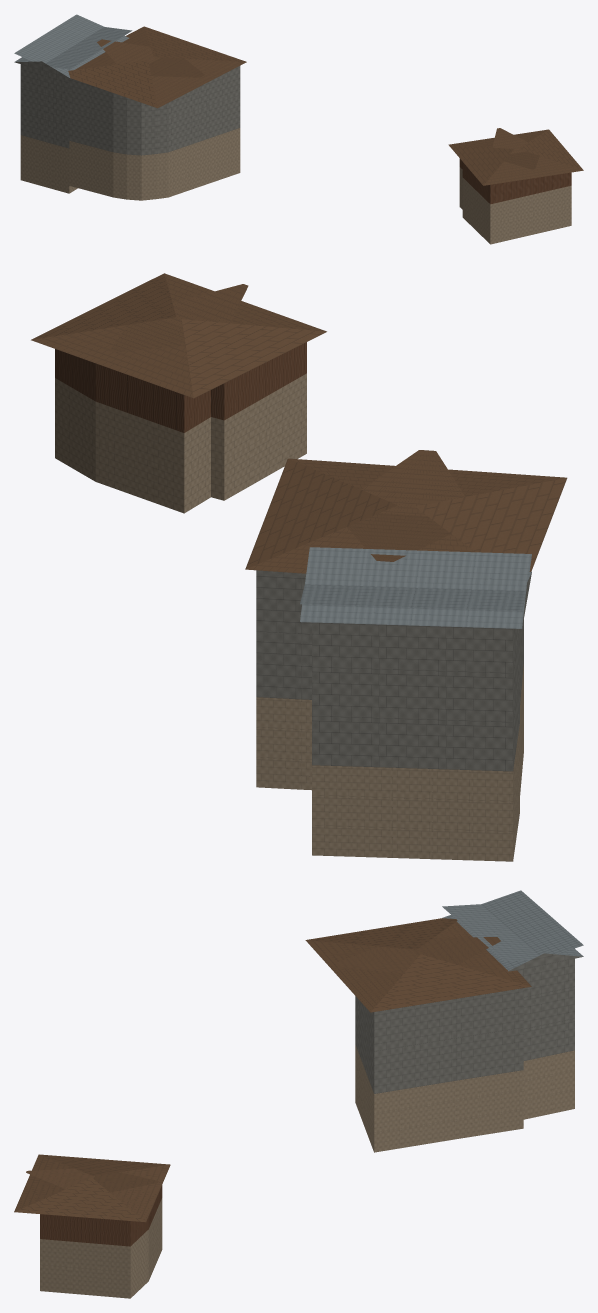
Rendered from bld_c24_29_399.gltf.
3 renders of one model, top to bottom at view 1: azimuth 30°, elevation 25°; view 2: azimuth 150°, elevation 25°; view 3: azimuth 270°, elevation 25°, orthographic. The views are drawn at different scales.
Parts seen in each view (by area): view 1: bld_c24_29_399; view 2: bld_c24_29_399; view 3: bld_c24_29_399.
Part boxes in pixels (bbox=[...]): bld_c24_29_399: bbox=[14, 14, 583, 244]; bld_c24_29_399: bbox=[31, 273, 567, 861]; bld_c24_29_399: bbox=[14, 890, 583, 1298].
Size of the model in its own units: 46.18 by 14.4 by 45.03.
6 materials, 6 textured.
